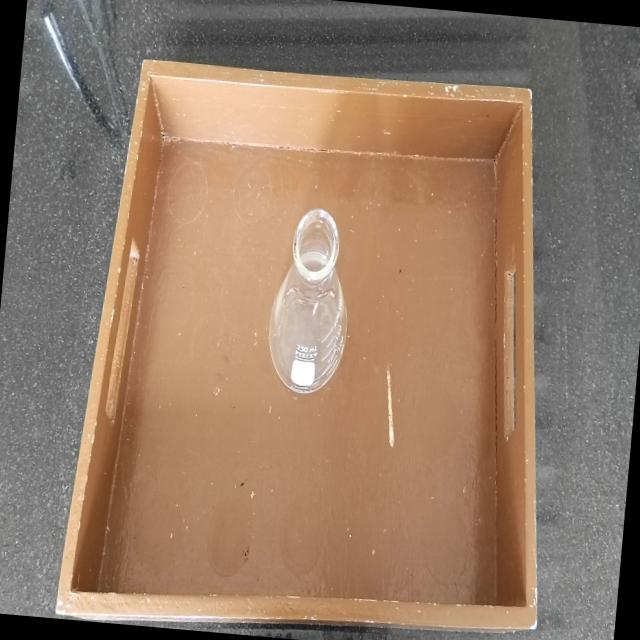erlenmeyer_flask: (250, 200, 369, 404)
